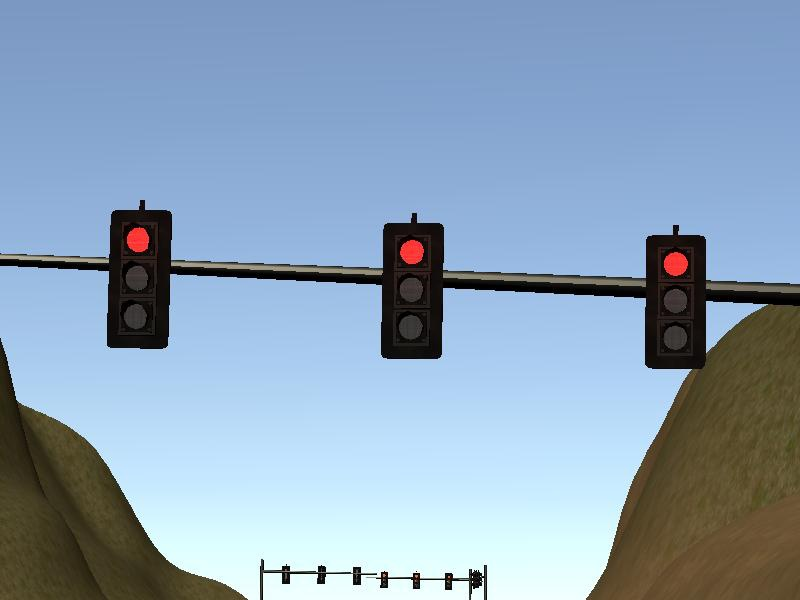red_light: (384, 225, 444, 357), (110, 210, 167, 347), (648, 238, 705, 367)
